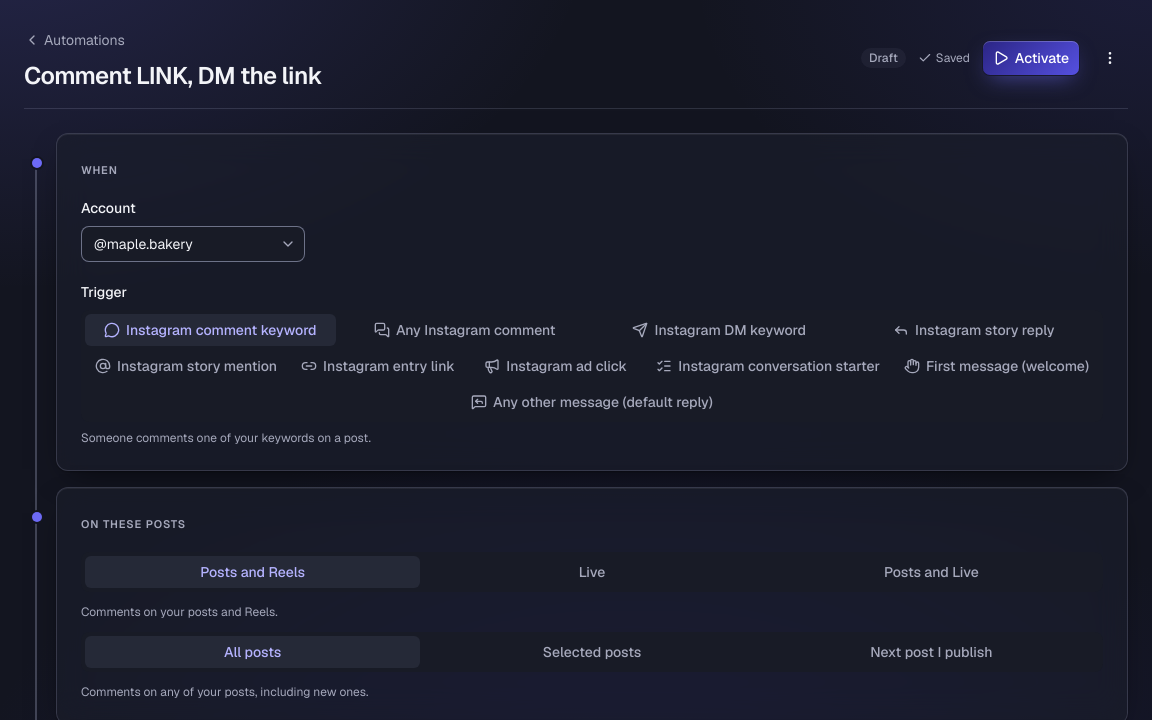
Test: AutomationEditor autosave (F-11) › says Not saved when the save fails, and Retry saves again
Type " 2" into the field named "Automation name" at (433, 76), box [20,60,845,92]
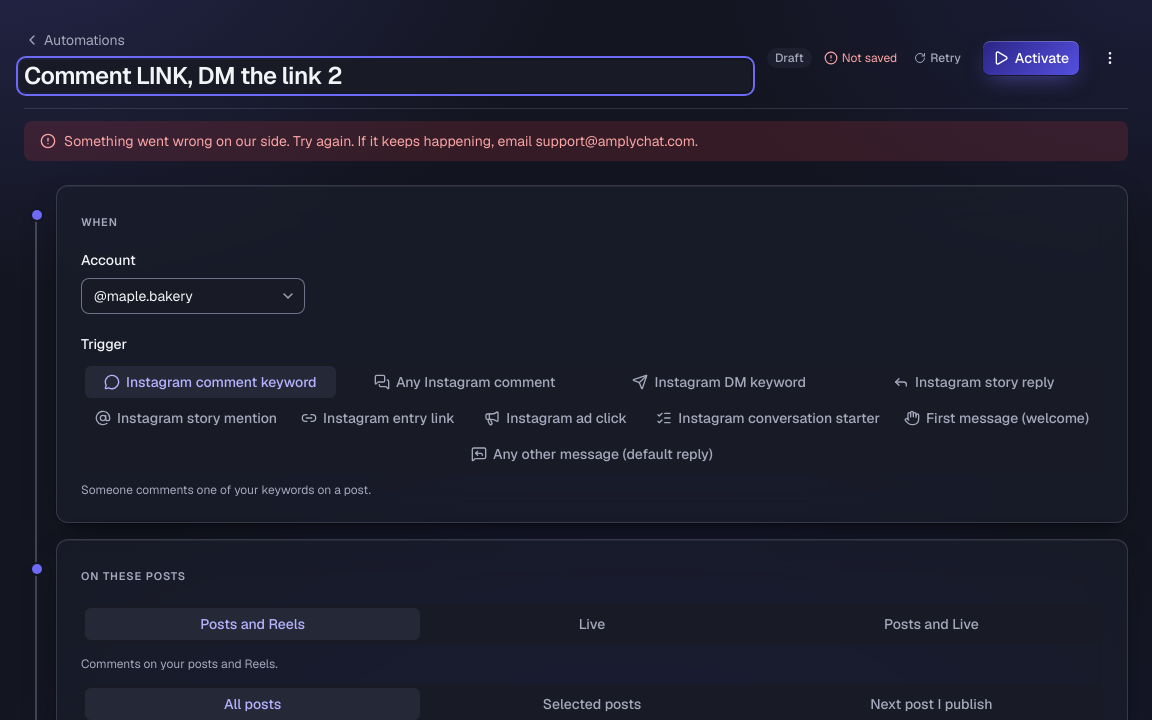
Now the message with test id "save-status" reads "Not saved", box [842,50,897,66]
Now the 2nd message shows "Something went wrong on our side.", box [64,132,698,150]
Click the button "Retry" at (938, 58), box [905,46,970,70]
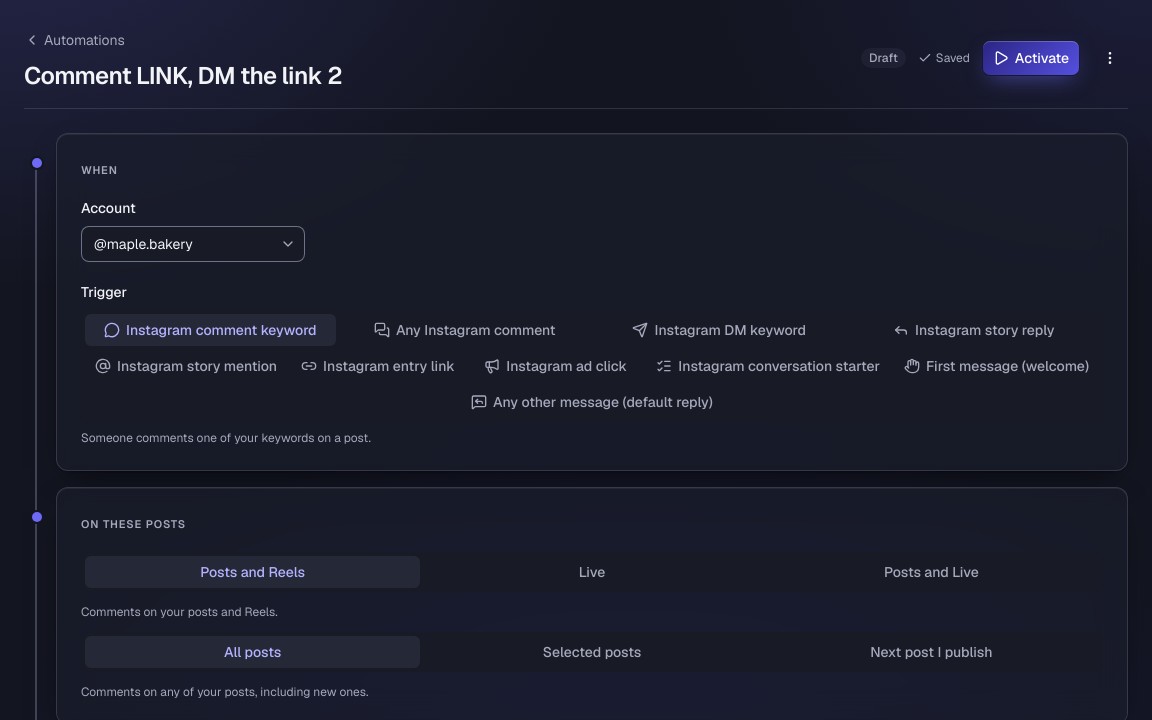
Now the message with test id "save-status" reads "Saved", box [936,50,970,66]
